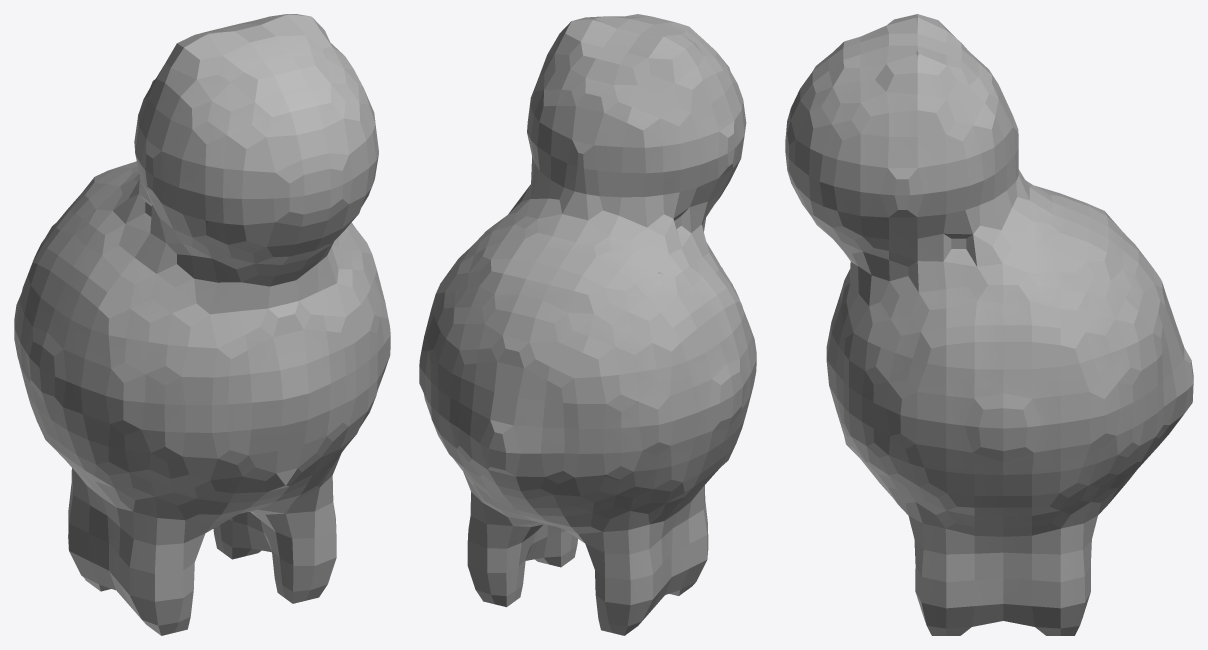
The model's file is mouse.glb.
3 renders of one model, left to right at view 1: azimuth 30°, elevation 25°; view 2: azimuth 150°, elevation 25°; view 3: azimuth 270°, elevation 25°, orthographic. The views are drawn at different scales.
Parts seen in each view (by area): view 1: geometry_0; view 2: geometry_0; view 3: geometry_0.
Part boxes in pixels (box(x1,y1,x2,y2)): geometry_0: box(14, 14, 390, 635); geometry_0: box(419, 14, 756, 635); geometry_0: box(785, 14, 1193, 635).
Bounding box in the file's own units: 0.5169 × 0.9077 × 0.5949.
Materials: 1 (1 with a texture image).
